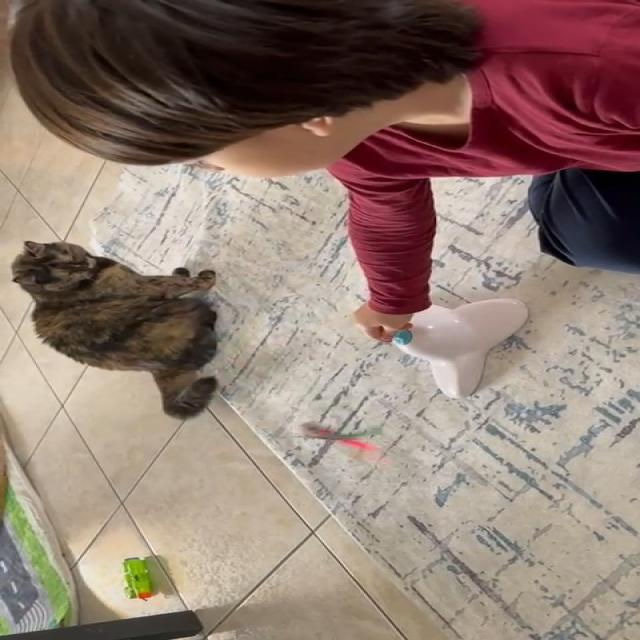authorized: (9, 239, 220, 419)
